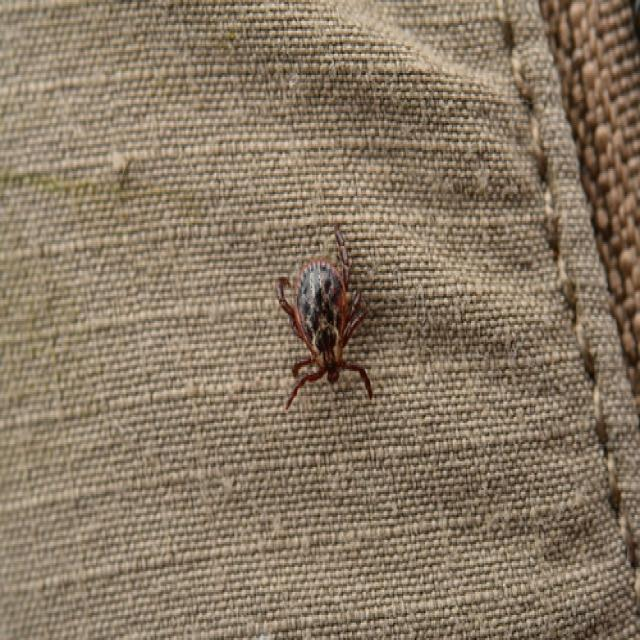Dermacentor Reticulatus-M: (274, 227, 374, 411)
